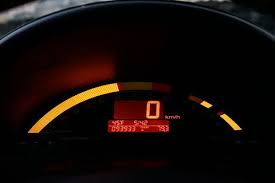Digital_Meter: (107, 119, 171, 136)
